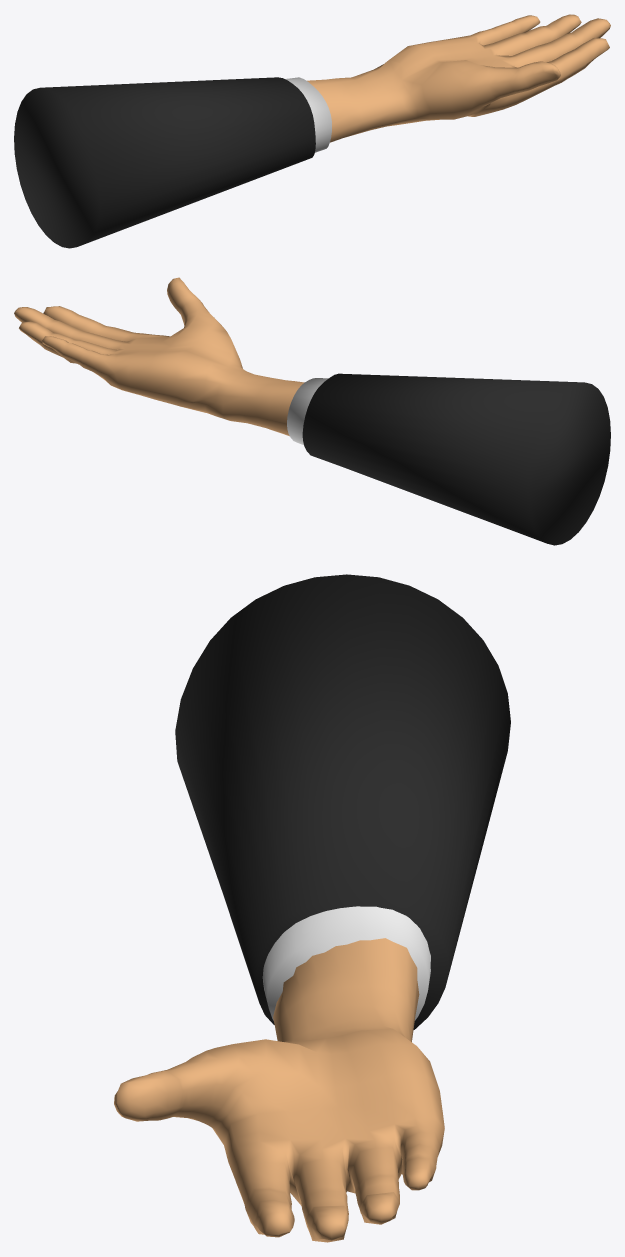
3 renders of one model, top to bottom at view 1: azimuth 30°, elevation 25°; view 2: azimuth 150°, elevation 25°; view 3: azimuth 270°, elevation 25°, orthographic. The views are drawn at different scales.
Parts seen in each view (by area): view 1: Cylinder; view 2: Cylinder; view 3: Cylinder.
Boxes of the visible parts, x1=… form: Cylinder: x1=14, y1=14, x2=610, y2=248; Cylinder: x1=14, y1=277, x2=610, y2=545; Cylinder: x1=114, y1=574, x2=510, y2=1242.
Bounding box in the file's own units: 13.55 × 3.49 × 4.23.
